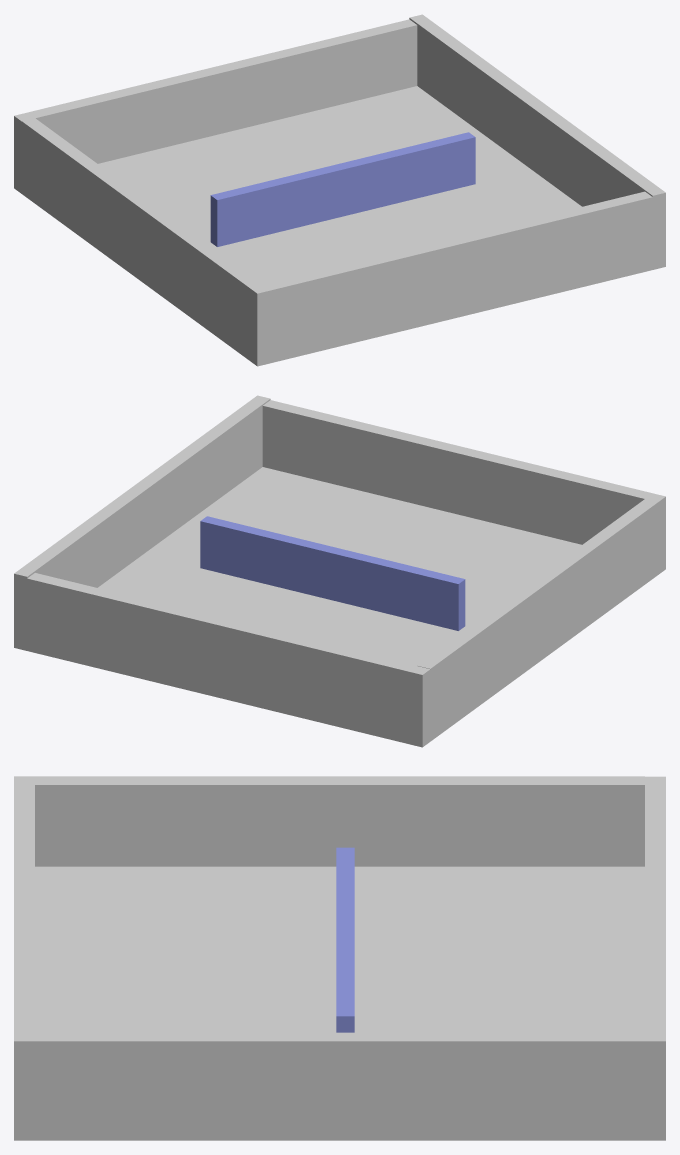
File: level_1.fbx
3 renders of one model, top to bottom at view 1: azimuth 30°, elevation 25°; view 2: azimuth 150°, elevation 25°; view 3: azimuth 270°, elevation 25°, orthographic. The views are drawn at different scales.
Parts seen in each view (by area): view 1: Cube, Cube.001; view 2: Cube, Cube.001; view 3: Cube, Cube.001.
Part boxes in pixels (x1=…): Cube: x1=14, y1=14, x2=665, y2=366; Cube.001: x1=210, y1=132, x2=475, y2=246; Cube: x1=14, y1=395, x2=665, y2=747; Cube.001: x1=200, y1=516, x2=465, y2=630; Cube: x1=14, y1=776, x2=665, y2=1140; Cube.001: x1=336, y1=847, x2=354, y2=1032.
Size of the model in its own units: 1886 by 327 by 1947.
